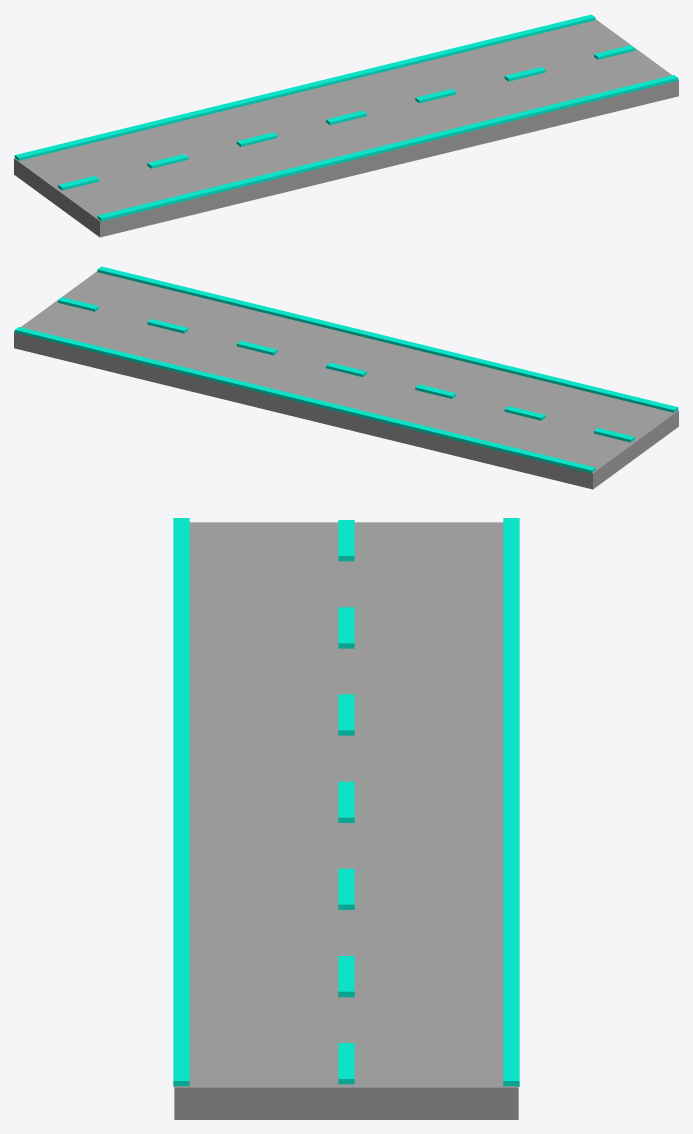
File: Road3d.fbx
The picture shows the model from 3 angles, top to bottom: view 1: azimuth 30°, elevation 25°; view 2: azimuth 150°, elevation 25°; view 3: azimuth 270°, elevation 25°; orthographic projection. The views are drawn at different scales.
Visible parts, largest first — view 1: pCube12; view 2: pCube12; view 3: pCube12.
Boxes of the visible parts, x1,y1,x2,y2 form: pCube12: [14, 14, 678, 237]; pCube12: [14, 266, 678, 489]; pCube12: [173, 518, 519, 1119].
Size of the model in its own units: 64.84 by 2.03 by 16.8.
